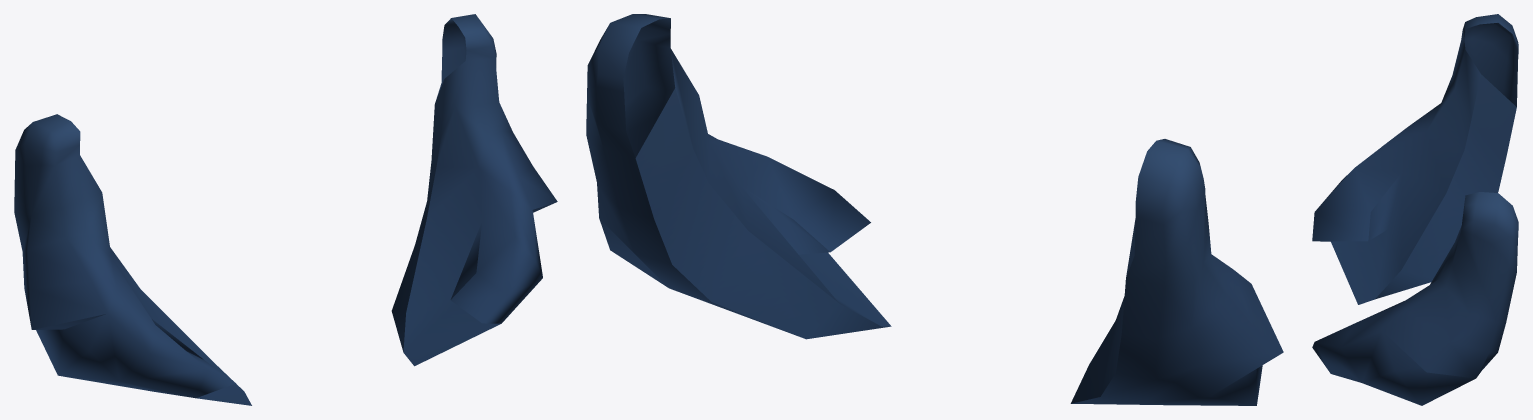
The model's file is Beard_Blue_9.fbx.
3 renders of one model, left to right at view 1: azimuth 30°, elevation 25°; view 2: azimuth 150°, elevation 25°; view 3: azimuth 270°, elevation 25°, orthographic. The views are drawn at different scales.
Parts seen in each view (by area): view 1: Beard_Blue_9; view 2: Beard_Blue_9; view 3: Beard_Blue_9.
Boxes of the visible parts, x1,y1,x2,y2 form: Beard_Blue_9: (14, 14, 557, 405); Beard_Blue_9: (586, 14, 1283, 405); Beard_Blue_9: (1312, 14, 1518, 405).
Bounding box in the file's own units: 58.92 × 28.07 × 22.62.
